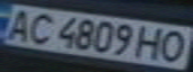0: (90, 19, 118, 55)
4: (51, 15, 81, 49)
8: (72, 16, 96, 52)
9: (112, 21, 139, 57)
A: (0, 7, 39, 42)
C: (21, 10, 60, 46)
H: (133, 25, 172, 61)
O: (154, 28, 193, 63)
